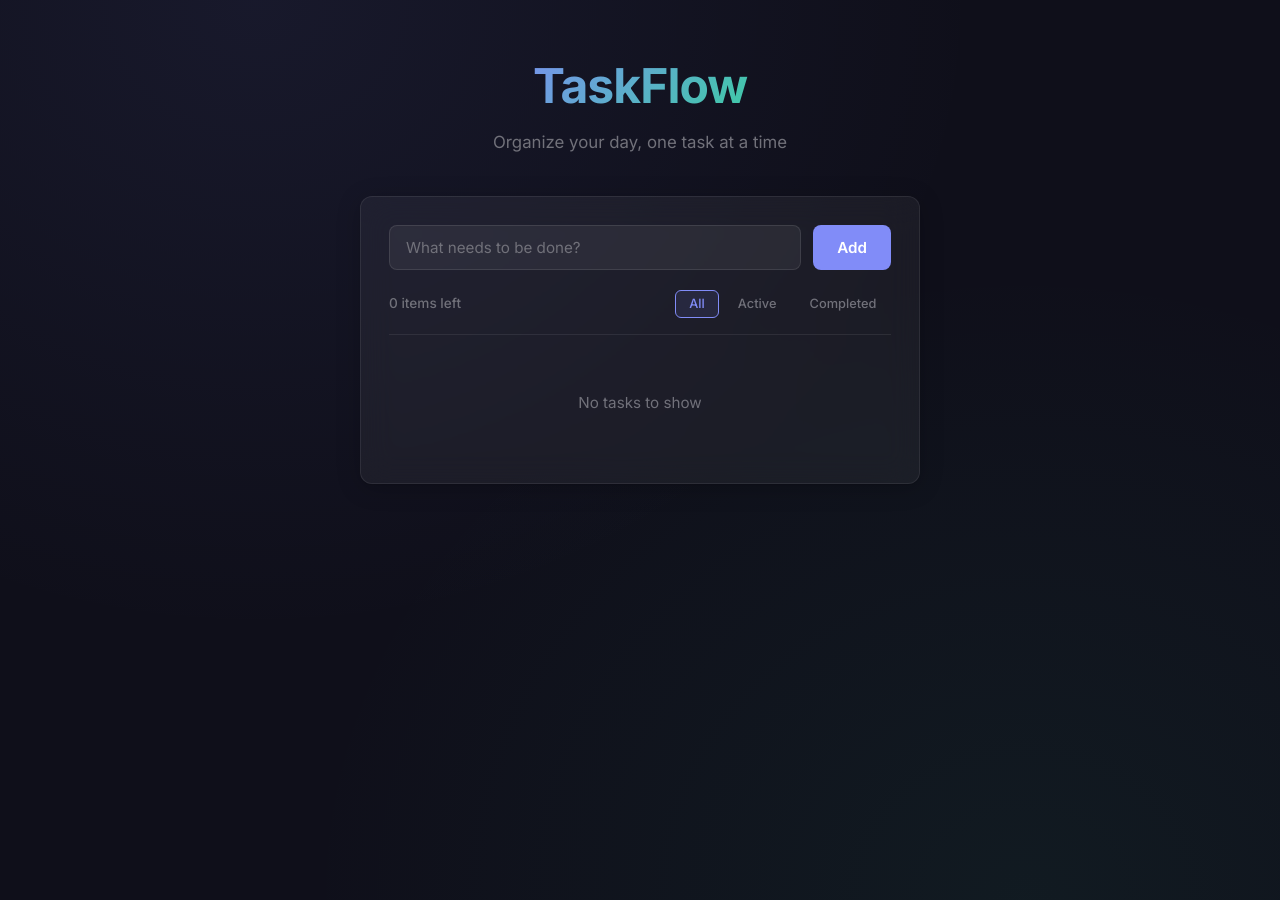
it: App › filters tasks by active and completed
Type "Active task" into the field named "Task title" at {"x": 595, "y": 247}, box [389,225,801,270]
Click the button "Add" at {"x": 852, "y": 247}, box [813,225,891,270]
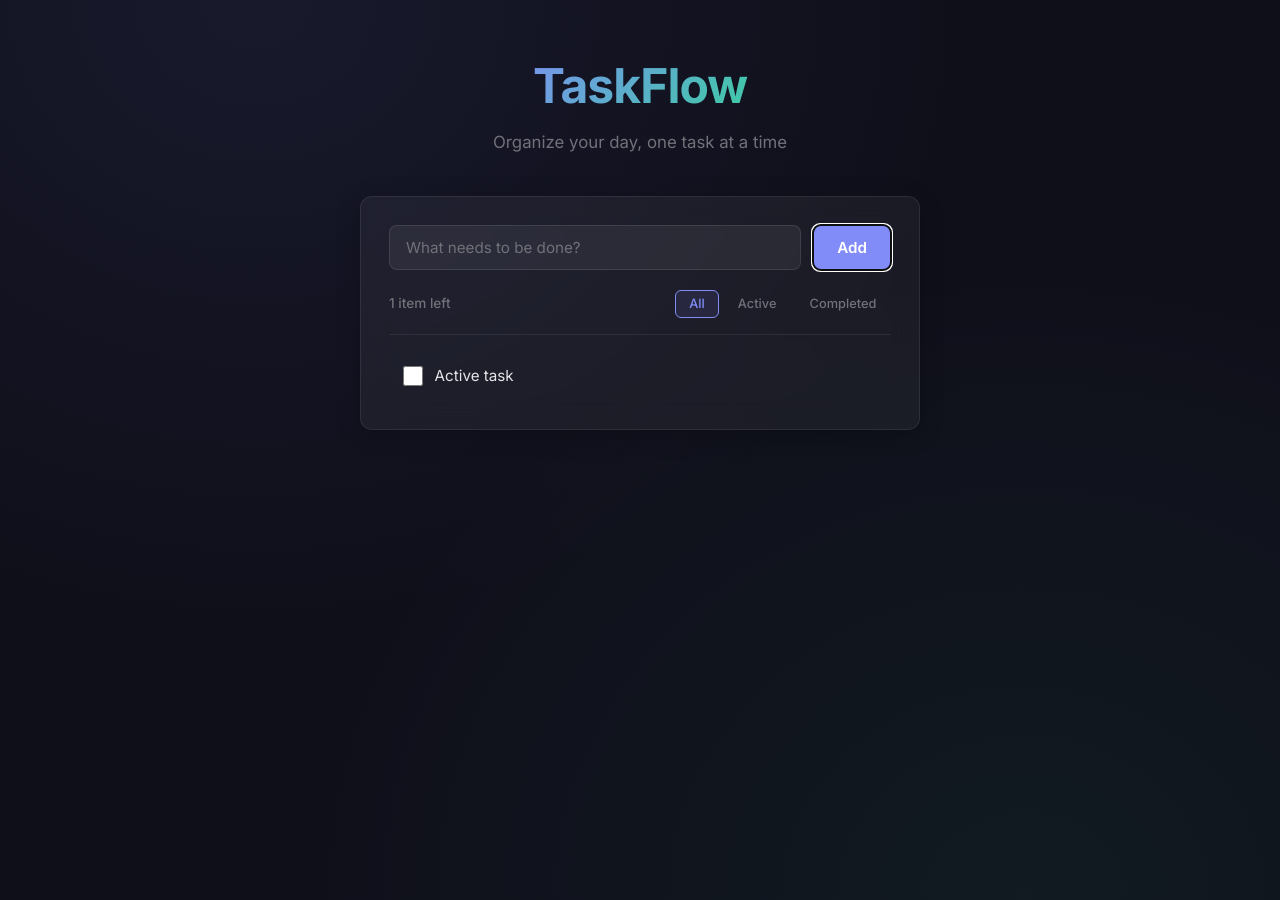
Type "Done task" into the field named "Task title" at {"x": 595, "y": 247}, box [389,225,801,270]
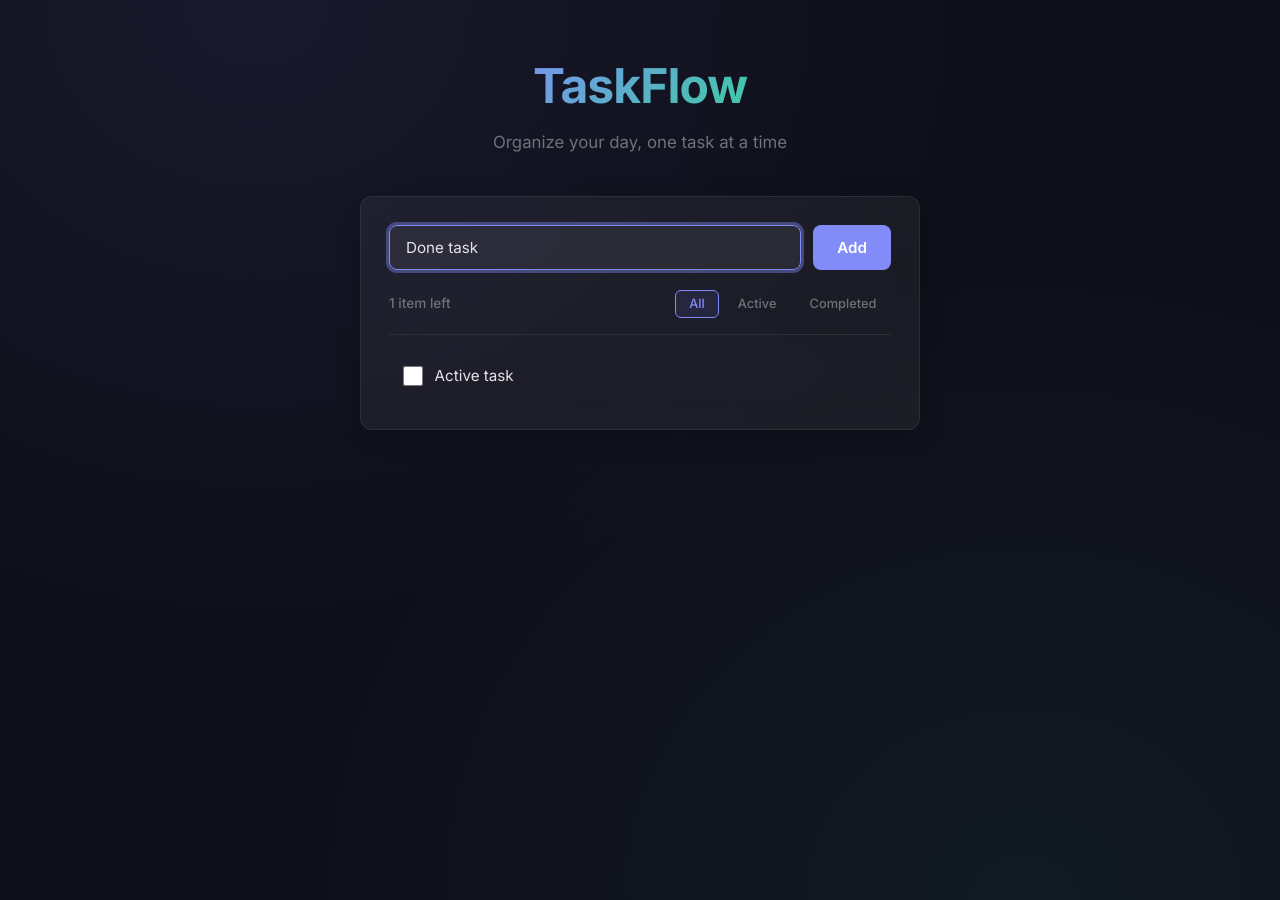
Click the button "Add" at {"x": 852, "y": 247}, box [813,225,891,270]
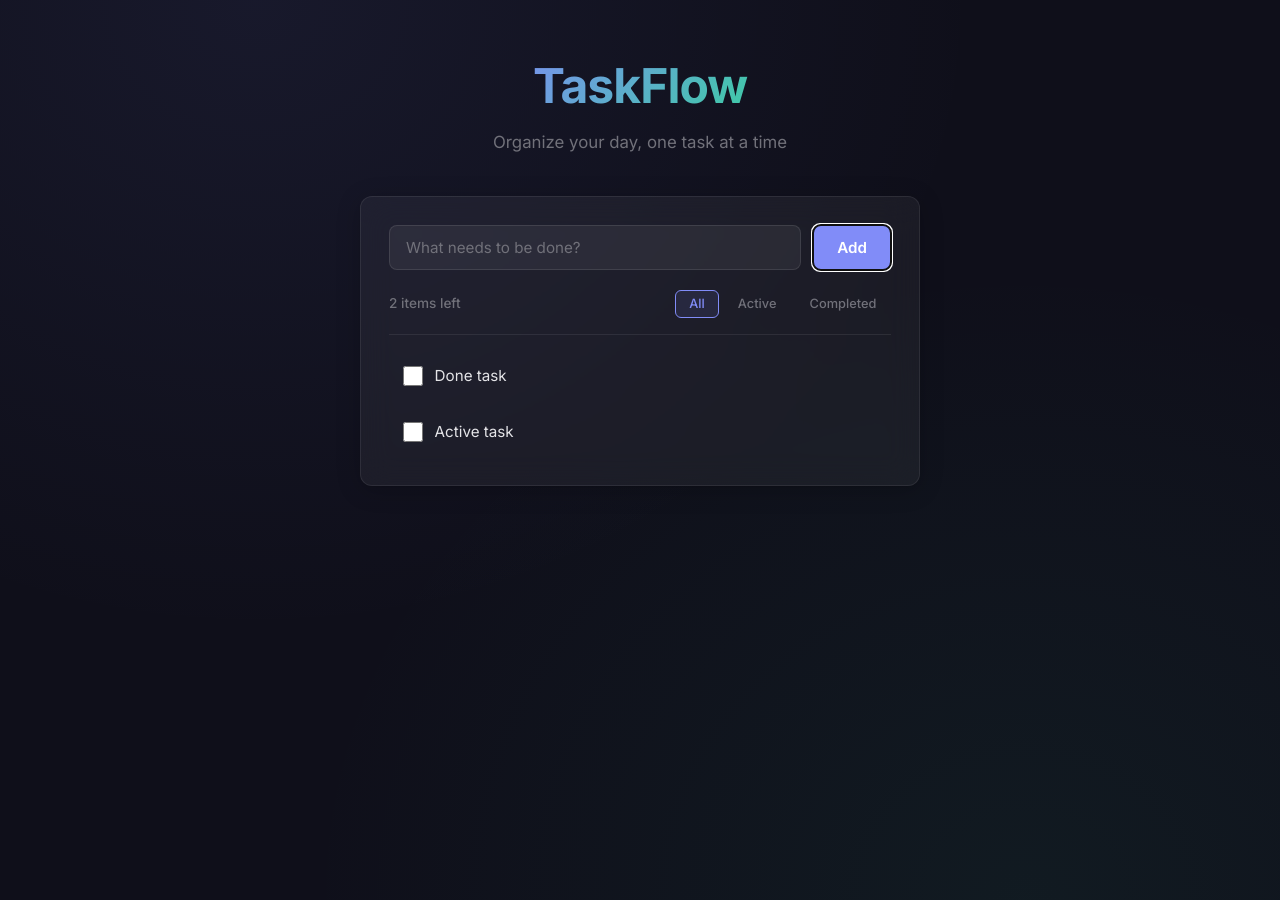
Click the checkbox labelled "Active task" at {"x": 413, "y": 432}, box [403,422,423,442]
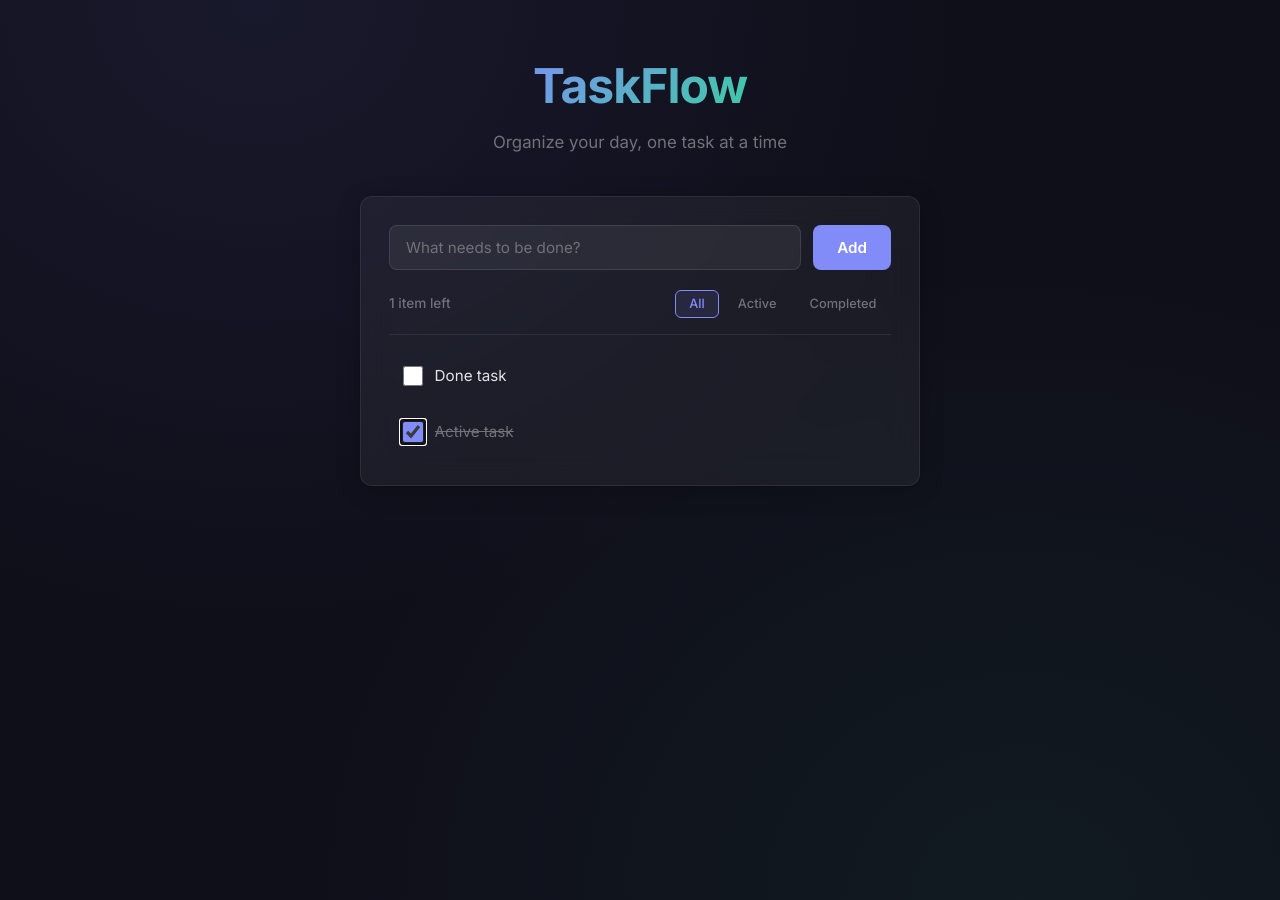
Click the button "Active" at {"x": 757, "y": 304}, box [723,290,791,318]
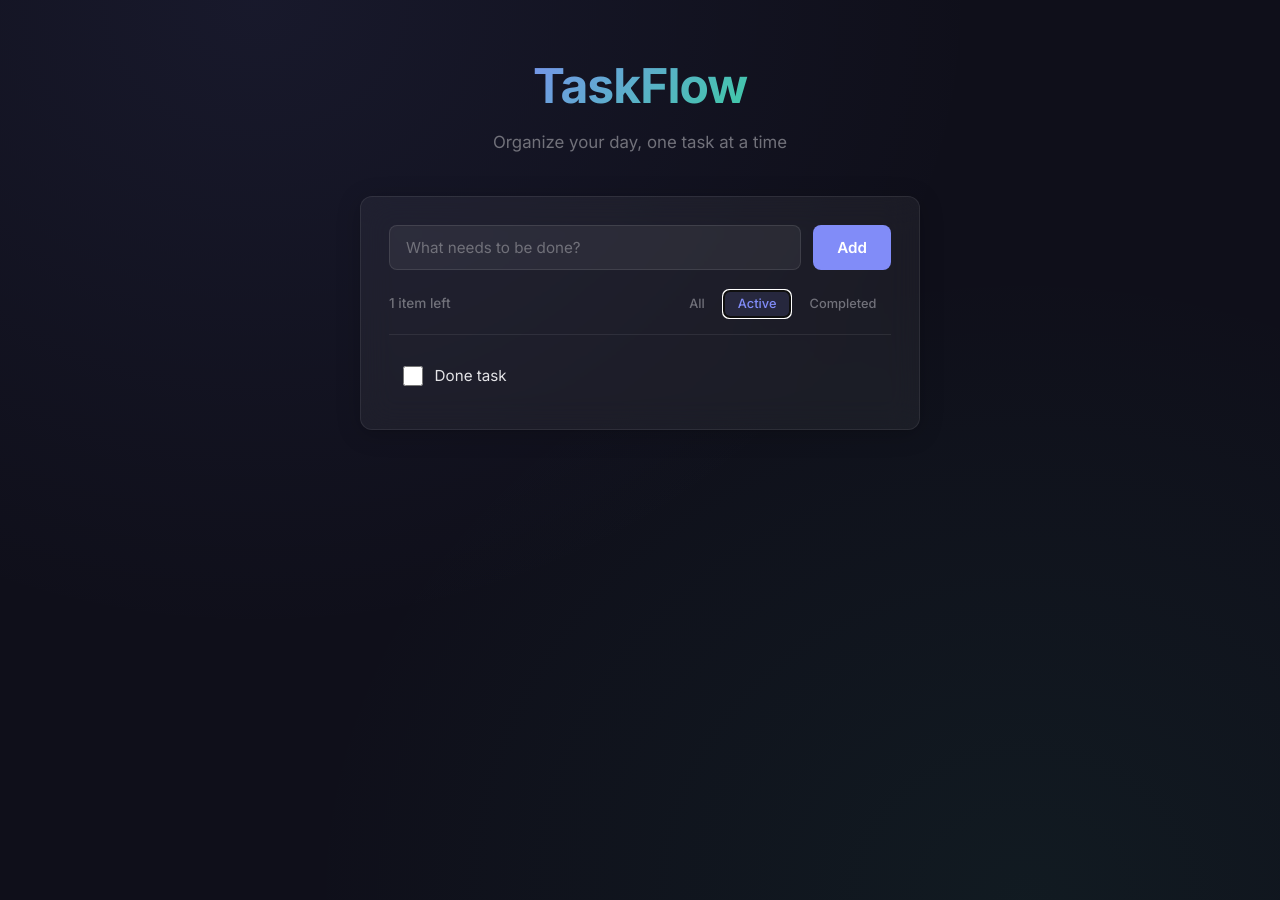
Expected: the text "Done task" is shown, [435,364,507,388]
Expected: the text "Active task" is gone
Click the button "Completed" at {"x": 843, "y": 304}, box [795,290,891,318]
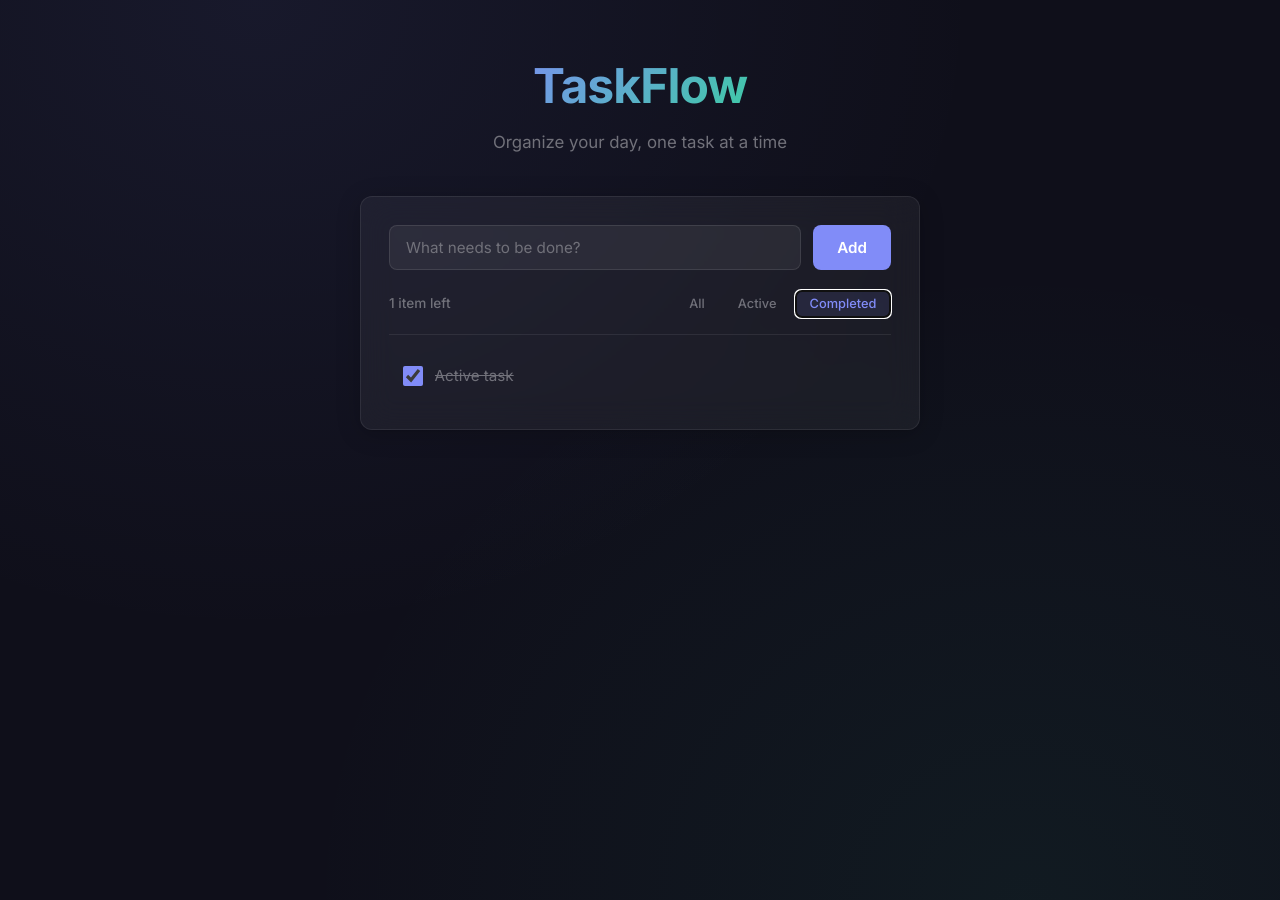
Expected: the text "Active task" is shown, [435,364,514,388]
Expected: the text "Done task" is gone
